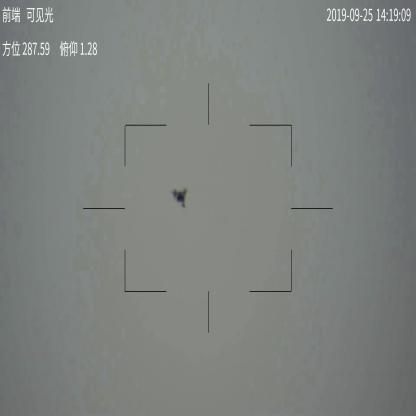uav: (171, 185, 187, 208)
